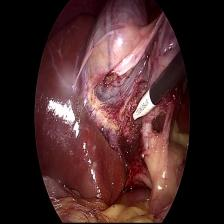Hook: (129, 88, 155, 127)
